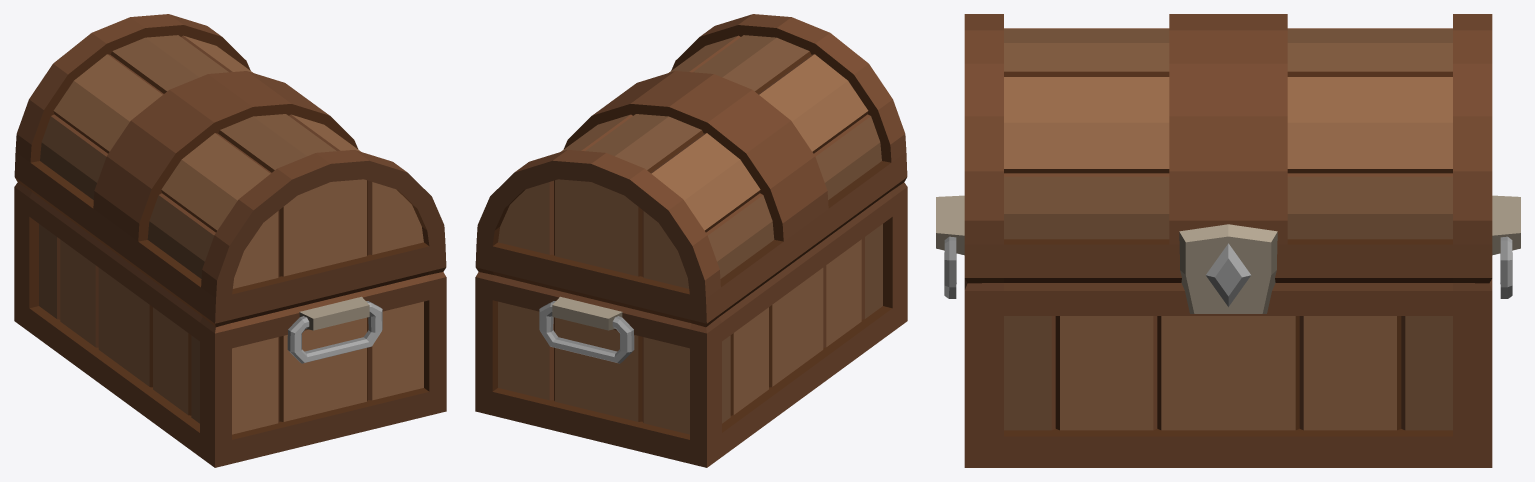
Rendered from chest.fbx.
3 views of the same model, side by side, from view 1: azimuth 30°, elevation 25°; view 2: azimuth 150°, elevation 25°; view 3: azimuth 270°, elevation 25° (orthographic). The views are drawn at different scales.
Parts seen in each view (by area): view 1: chest; view 2: chest; view 3: chest.
Boxes of the visible parts, box(x1,y1,x2,y2) form: chest: box(14, 14, 446, 467); chest: box(475, 14, 907, 467); chest: box(936, 14, 1520, 467).
Bounding box in the file's own units: 83.66 × 91.09 × 133.
